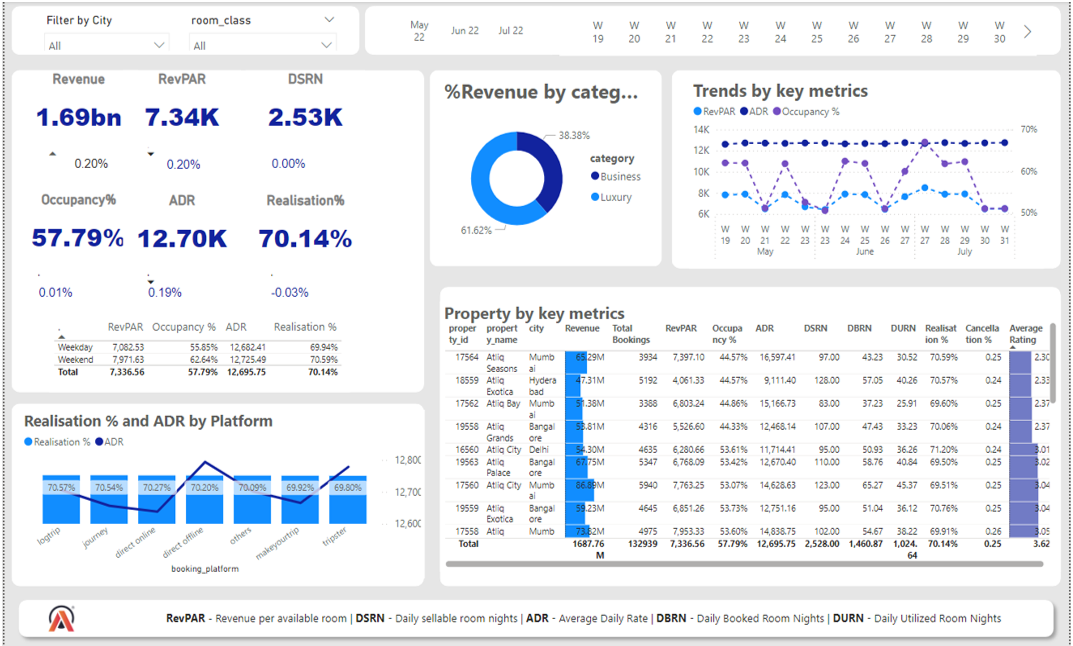

The page's visual inventory and layout, read from the dashboard file:
{"tool":"powerbi","page":{"name":"Home","canvas":[1320,800],"ordinal":0},"visuals":[{"type":"shape","box":[8.8,719.9,1301.5,62.8],"z":0},{"type":"shape","box":[540.2,348,770.1,364.3],"z":1000},{"type":"shape","box":[9.3,489.5,511.6,222.1],"z":2000},{"type":"shape","box":[827.9,84.2,482.4,241.2],"z":3000},{"type":"shape","box":[527.6,84.2,287.7,238.7],"z":4000},{"type":"shape","box":[9.3,83.7,511.6,391.9],"z":5000},{"type":"shape","box":[447.2,6.3,863.1,59],"z":6000},{"type":"shape","box":[9.3,5.8,431.4,59.3],"z":7000},{"type":"slicer","fields":{"Values":["dim_hotels.city"]},"box":[38.4,10.5,175.6,50],"z":8000},{"type":"slicer","fields":{"Values":["dim_rooms.room_class"]},"box":[218.6,10.5,203.5,50],"z":9000},{"type":"slicer","fields":{"Values":["dim_date.mmm yy"]},"box":[461.6,5.8,218.6,59.3],"z":10000},{"type":"slicer","fields":{"Values":["dim_date.week no"]},"box":[688.4,7,591.9,59.3],"z":11000},{"type":"tableEx","fields":{"Values":["Key_Measures.Occupancy WoW change %"]},"box":[29.5,315,109.3,65.1],"z":12000},{"type":"tableEx","fields":{"Values":["Key_Measures.Realisation WoW change %"]},"box":[319.2,315,109.3,65.1],"z":13000},{"type":"tableEx","fields":{"Values":["Key_Measures.Revpar WoW change %"]},"box":[166.3,159.3,109.3,59.3],"z":14000},{"type":"tableEx","fields":{"Values":["Key_Measures.DSRN WoW change %"]},"box":[318.6,158.1,109.3,60.5],"z":15000},{"type":"tableEx","fields":{"Values":["Key_Measures.Revenue WoW change %"]},"box":[44.5,158.3,95.3,54.7],"z":16000},{"type":"tableEx","fields":{"Values":["Key_Measures.ADR WoW change %"]},"box":[166,315,109.3,65.1],"z":17000},{"type":"tableEx","fields":{"Values":["dim_date.day_type","Key_Measures.RevPAR","Key_Measures.Occupancy %","Key_Measures.ADR","Key_Measures.Realisation %"]},"box":[55.8,381.4,373.3,94.2],"z":18000},{"type":"card","title":"Occupancy%","fields":{"Values":["Key_Measures.Occupancy %"]},"box":[18.6,231.4,146.5,94.2],"z":19000},{"type":"card","title":"ADR","fields":{"Values":["Key_Measures.ADR"]},"box":[147.4,231.9,146.5,94.2],"z":20000},{"type":"card","title":"Realisation%","fields":{"Values":["Key_Measures.Realisation %"]},"box":[300.6,231.9,146.5,94.2],"z":21000},{"type":"card","title":"Revenue","fields":{"Values":["Key_Measures.Revenue"]},"box":[19,84.3,146.5,94.2],"z":22000},{"type":"card","title":"RevPAR","fields":{"Values":["Key_Measures.RevPAR"]},"box":[147.6,84.3,146.5,94.2],"z":23000},{"type":"card","title":"DSRN","fields":{"Values":["Key_Measures.DSRN"]},"box":[300.5,84.3,146.5,94.2],"z":24000},{"type":"donutChart","title":"%Revenue by category","fields":{"Y":["Key_Measures.Revenue"],"Series":["dim_hotels.category"]},"box":[540.2,93,265.1,222.4],"z":25000},{"type":"lineChart","title":"Trends by key metrics","fields":{"Category":["dim_date.mmm yy.Variation.Date Hierarchy.Month","dim_date.week no"],"Y":["Key_Measures.RevPAR","Key_Measures.ADR"],"Y2":["Key_Measures.Occupancy %"]},"box":[849.3,93,439.7,232.4],"z":26000},{"type":"lineStackedColumnComboChart","title":"Realisation % and ADR by Platform","fields":{"Category":["fact_bookings.booking_platform"],"Y":["Key_Measures.Realisation %"],"Y2":["Key_Measures.ADR"]},"box":[18.6,497.7,502.3,204.7],"z":27000},{"type":"tableEx","title":"Property by key metrics","fields":{"Values":["dim_hotels.property_id","dim_hotels.property_name","dim_hotels.city","Key_Measures.Revenue","Key_Measures.Total Bookings","Key_Measures.RevPAR","Key_Measures.Occupancy %","Key_Measures.ADR","Key_Measures.DSRN","Key_Measures.DBRN","Key_Measures.DURN","Key_Measures.Realisation %"]},"box":[540.2,365.6,770.1,329.1],"z":28000},{"type":"image","box":[30.2,729.9,81.7,42.7],"z":29000},{"type":"textbox","box":[139.4,736.2,1154.5,30.2],"z":30000}]}

Visuals, with their boxes in screenshot pixels (x1, y1, x2, y2), scaled from the page's 1320x800 canvas onto the 1073x646 screenshot:
shape: bbox=(7, 581, 1065, 632)
shape: bbox=(439, 281, 1065, 575)
shape: bbox=(8, 395, 423, 575)
shape: bbox=(673, 68, 1065, 263)
shape: bbox=(429, 68, 663, 261)
shape: bbox=(8, 68, 423, 384)
shape: bbox=(364, 5, 1065, 53)
shape: bbox=(8, 5, 358, 53)
slicer - dim_hotels.city: bbox=(31, 8, 174, 49)
slicer - dim_rooms.room_class: bbox=(178, 8, 343, 49)
slicer - dim_date.mmm yy: bbox=(375, 5, 553, 53)
slicer - dim_date.week no: bbox=(560, 6, 1041, 54)
tableEx - Key_Measures.Occupancy WoW change %: bbox=(24, 254, 113, 307)
tableEx - Key_Measures.Realisation WoW change %: bbox=(259, 254, 348, 307)
tableEx - Key_Measures.Revpar WoW change %: bbox=(135, 129, 224, 177)
tableEx - Key_Measures.DSRN WoW change %: bbox=(259, 128, 348, 177)
tableEx - Key_Measures.Revenue WoW change %: bbox=(36, 128, 114, 172)
tableEx - Key_Measures.ADR WoW change %: bbox=(135, 254, 224, 307)
tableEx - dim_date.day_type x Key_Measures.RevPAR: bbox=(45, 308, 349, 384)
"Occupancy%" card: bbox=(15, 187, 134, 263)
"ADR" card: bbox=(120, 187, 239, 263)
"Realisation%" card: bbox=(244, 187, 363, 263)
"Revenue" card: bbox=(15, 68, 135, 144)
"RevPAR" card: bbox=(120, 68, 239, 144)
"DSRN" card: bbox=(244, 68, 363, 144)
"%Revenue by category" donutChart: bbox=(439, 75, 655, 255)
"Trends by key metrics" lineChart: bbox=(690, 75, 1048, 263)
"Realisation % and ADR by Platform" lineStackedColumnComboChart: bbox=(15, 402, 423, 567)
"Property by key metrics" tableEx: bbox=(439, 295, 1065, 561)
image: bbox=(25, 589, 91, 624)
textbox: bbox=(113, 594, 1052, 619)
